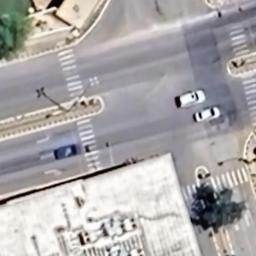sedan: (194, 108, 224, 126)
van: (173, 87, 208, 108)
